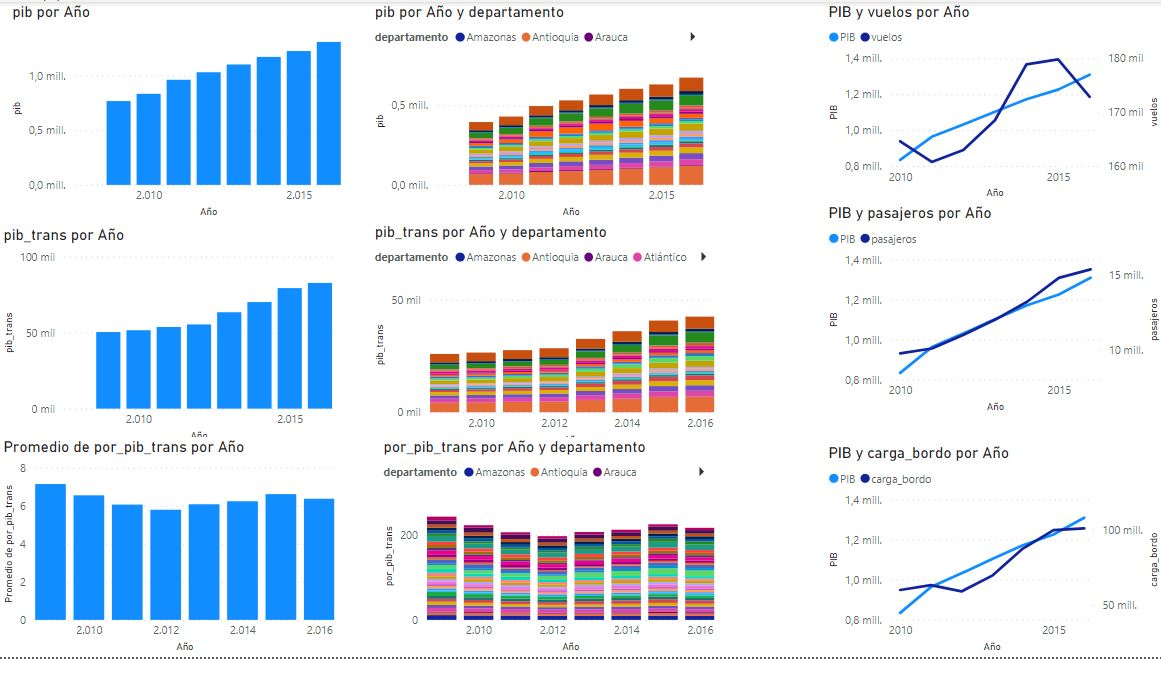

This screenshot's page, from the dashboard's own definition file:
{"tool":"powerbi","page":{"name":"PIB","canvas":[1280,720],"ordinal":1},"visuals":[{"type":"columnChart","title":"PIB anual","fields":{"Category":["dim_economica.ano"],"Y":["Sum(dim_economica.pib)"]},"box":[0,0,407.9,247.2],"z":0},{"type":"columnChart","title":"PIB transporte anual","fields":{"Category":["dim_economica.ano"],"Y":["Sum(dim_economica.pib_trans)"]},"box":[0,247.2,407.9,237.6],"z":1000},{"type":"columnChart","title":"Aporte transporte al PIB anual","fields":{"Category":["dim_economica.ano"],"Y":["Avg(dim_economica.por_pib_trans)"]},"box":[0,495.8,407.9,223.9],"z":2000},{"type":"columnChart","title":"PIB anual","fields":{"Category":["dim_economica.ano"],"Y":["Sum(dim_economica.pib)"],"Series":["dim_economica.departamento"]},"box":[435.4,0,407.9,247.2],"z":3000},{"type":"columnChart","title":"PIB transporte anual","fields":{"Category":["dim_economica.ano"],"Series":["dim_economica.departamento"],"Y":["Sum(dim_economica.pib_trans)"]},"box":[435.4,248.6,407.9,247.2],"z":4000},{"type":"columnChart","title":"Aporte transporte al PIB anual","fields":{"Category":["dim_economica.ano"],"Y":["Sum(dim_economica.por_pib_trans)"],"Series":["dim_economica.departamento"]},"box":[435.4,495.8,407.9,223.9],"z":5000},{"type":"lineChart","title":"PIB y vuelos anuales","fields":{"Y":["Sum(dim_economica.pib)"],"Category":["fecha.year"],"Y2":["Sum(fact_vuelo.vuelos)"]},"box":[852.9,0,407.9,247.2],"z":6000},{"type":"lineChart","title":"PIB y pasajeros anuales","fields":{"Y":["Sum(dim_economica.pib)"],"Category":["fecha.year"],"Y2":["Sum(fact_vuelo.pasajeros)"]},"box":[852.9,273.3,407.9,222.5],"z":7000},{"type":"lineChart","title":"PIB y carga transportada anual","fields":{"Y":["Sum(dim_economica.pib)"],"Category":["fecha.year"],"Y2":["Sum(fact_vuelo.carga_bordo)"]},"box":[852.9,497.2,407.9,222.5],"z":8000}]}

Visuals, with their boxes on the page's 1280x720 design canvas (x1, y1, x2, y2). These are canvas units, not pixel positions in the 1161x679 screenshot, which may show the page scaled, cropped or inside an application window:
"PIB anual" columnChart: Rect(0, 0, 408, 247)
"PIB transporte anual" columnChart: Rect(0, 247, 408, 485)
"Aporte transporte al PIB anual" columnChart: Rect(0, 496, 408, 720)
"PIB anual" columnChart: Rect(435, 0, 843, 247)
"PIB transporte anual" columnChart: Rect(435, 249, 843, 496)
"Aporte transporte al PIB anual" columnChart: Rect(435, 496, 843, 720)
"PIB y vuelos anuales" lineChart: Rect(853, 0, 1261, 247)
"PIB y pasajeros anuales" lineChart: Rect(853, 273, 1261, 496)
"PIB y carga transportada anual" lineChart: Rect(853, 497, 1261, 720)
